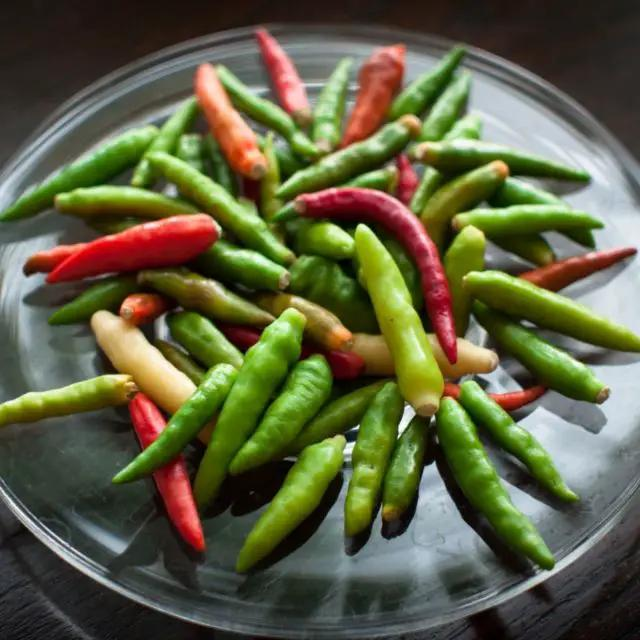chili_pepper: (292, 188, 458, 364), (194, 309, 306, 508), (356, 224, 445, 416), (148, 152, 295, 264), (464, 271, 639, 352), (45, 214, 221, 284), (194, 63, 268, 180), (152, 455, 204, 552), (128, 393, 167, 449)
